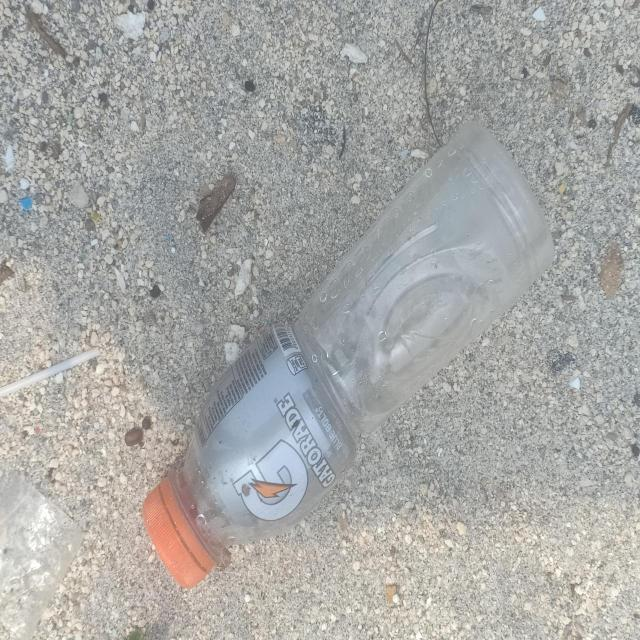plastic_waste: (142, 118, 558, 593), (1, 347, 103, 399)
